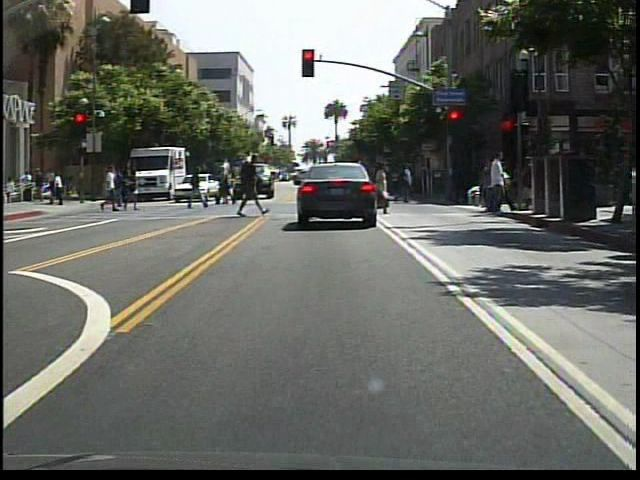person: (234, 151, 268, 223), (483, 149, 515, 211), (103, 166, 126, 216), (188, 168, 209, 215), (378, 163, 396, 217), (107, 167, 128, 212), (220, 166, 237, 208), (126, 169, 141, 214)
